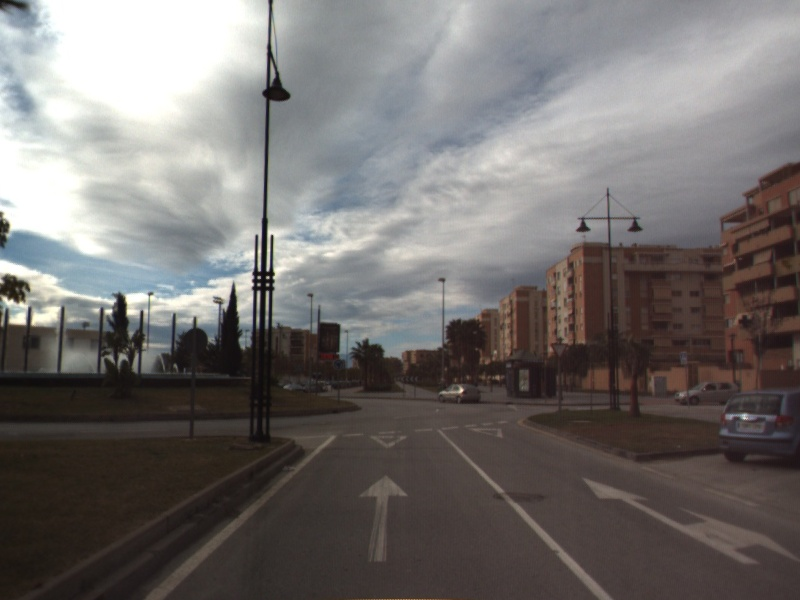STRAIGHT: (357, 473, 411, 564)
STRAIGHT_RIGHT: (580, 475, 800, 566)
